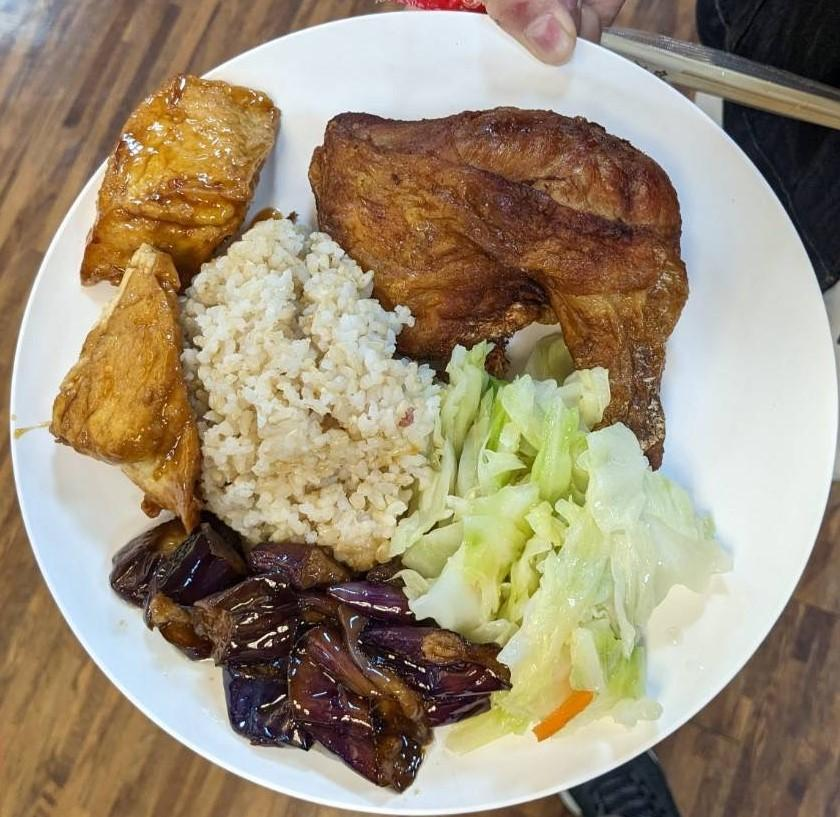big fried chicken leg: (10, 7, 840, 813)
box: (180, 210, 432, 563)
braised fish fillet: (411, 344, 722, 740), (50, 65, 279, 534), (112, 524, 501, 788)
brown rice: (310, 105, 685, 467)
